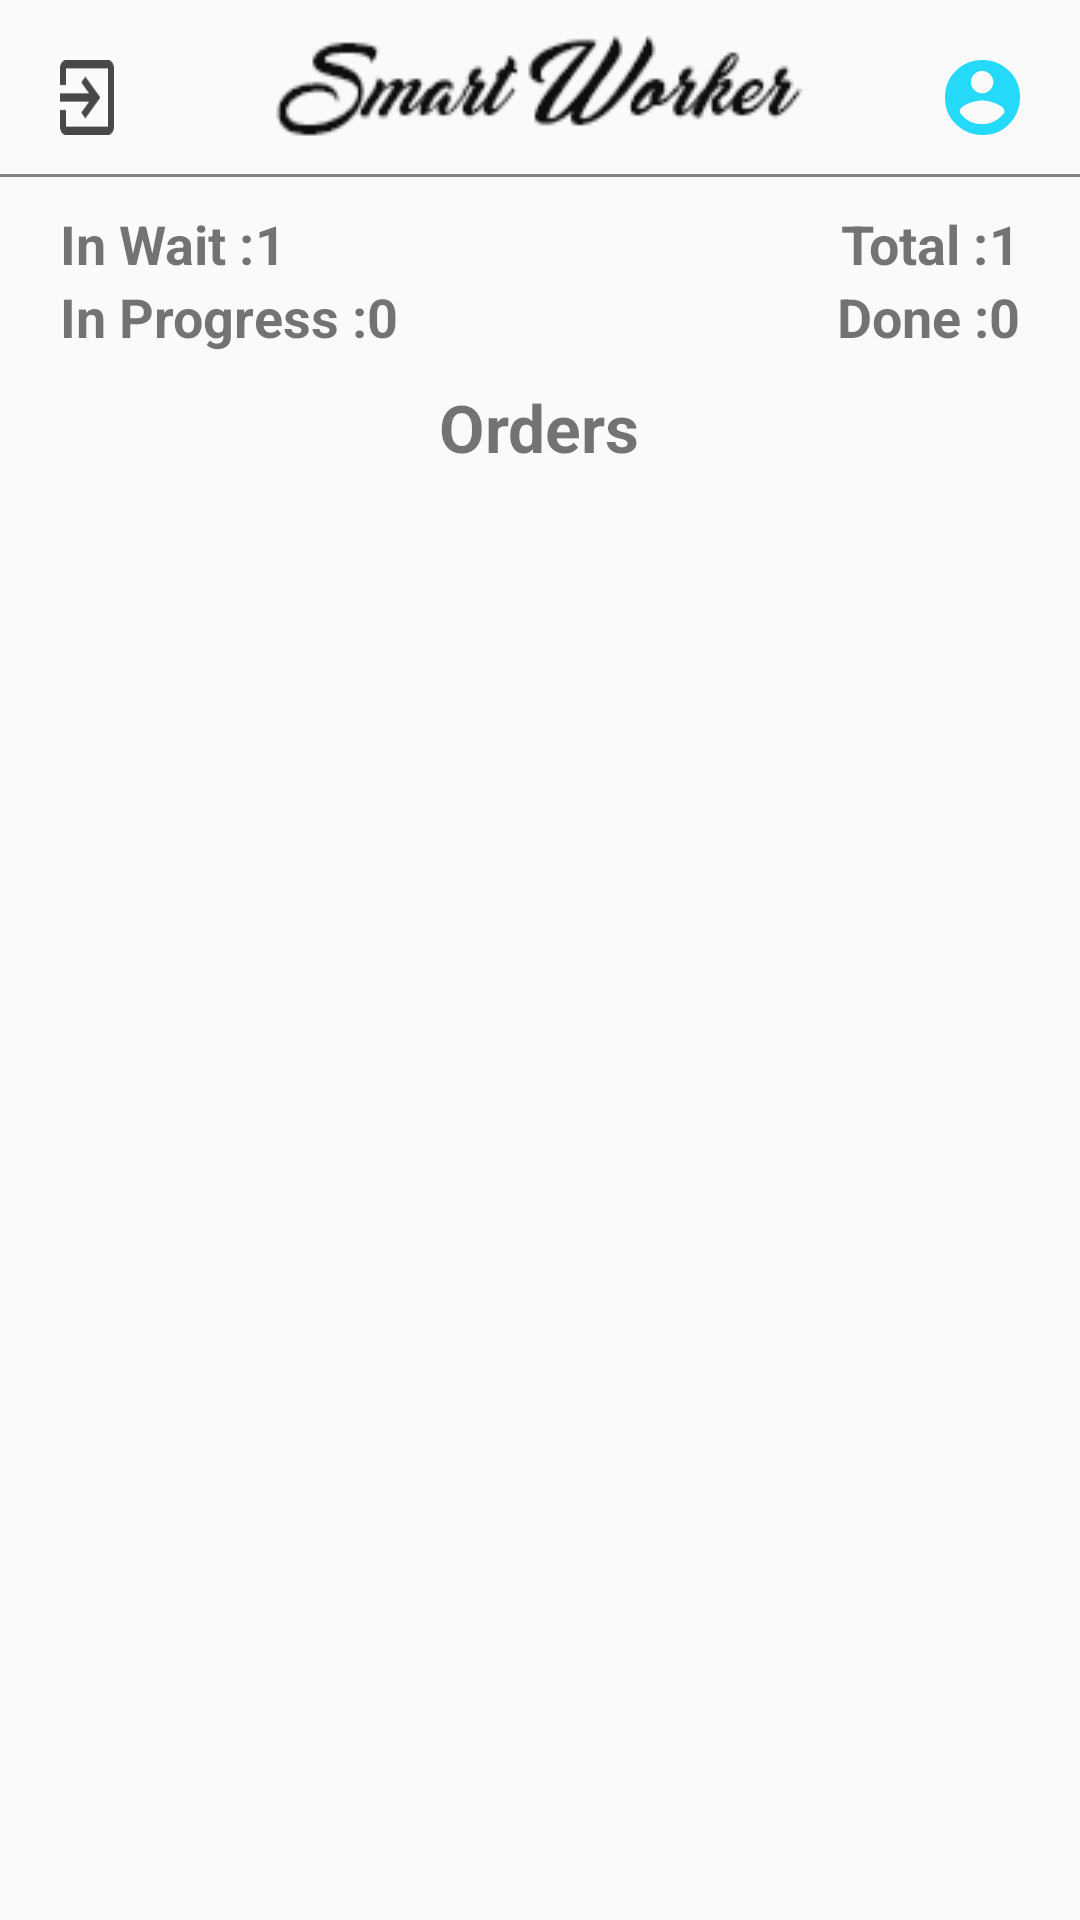

Where to tap for icons on this 1080 x 1920 app screen, as [x,y]:
profile blou: [982,97]
